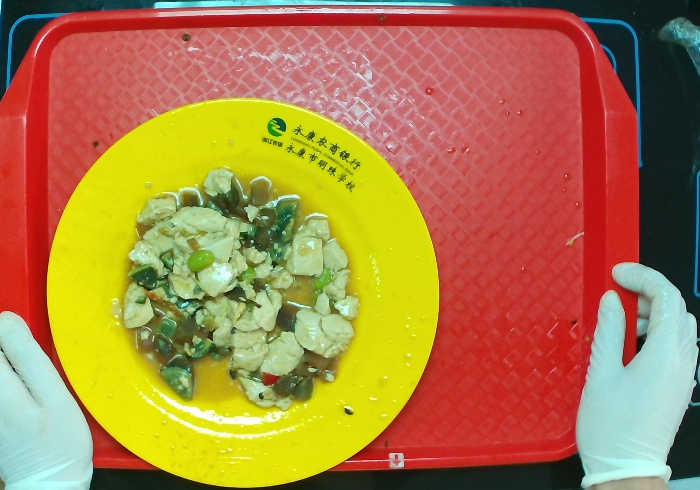YKMZ-Huang_Se_Mian_Pan: (45, 95, 445, 490)
